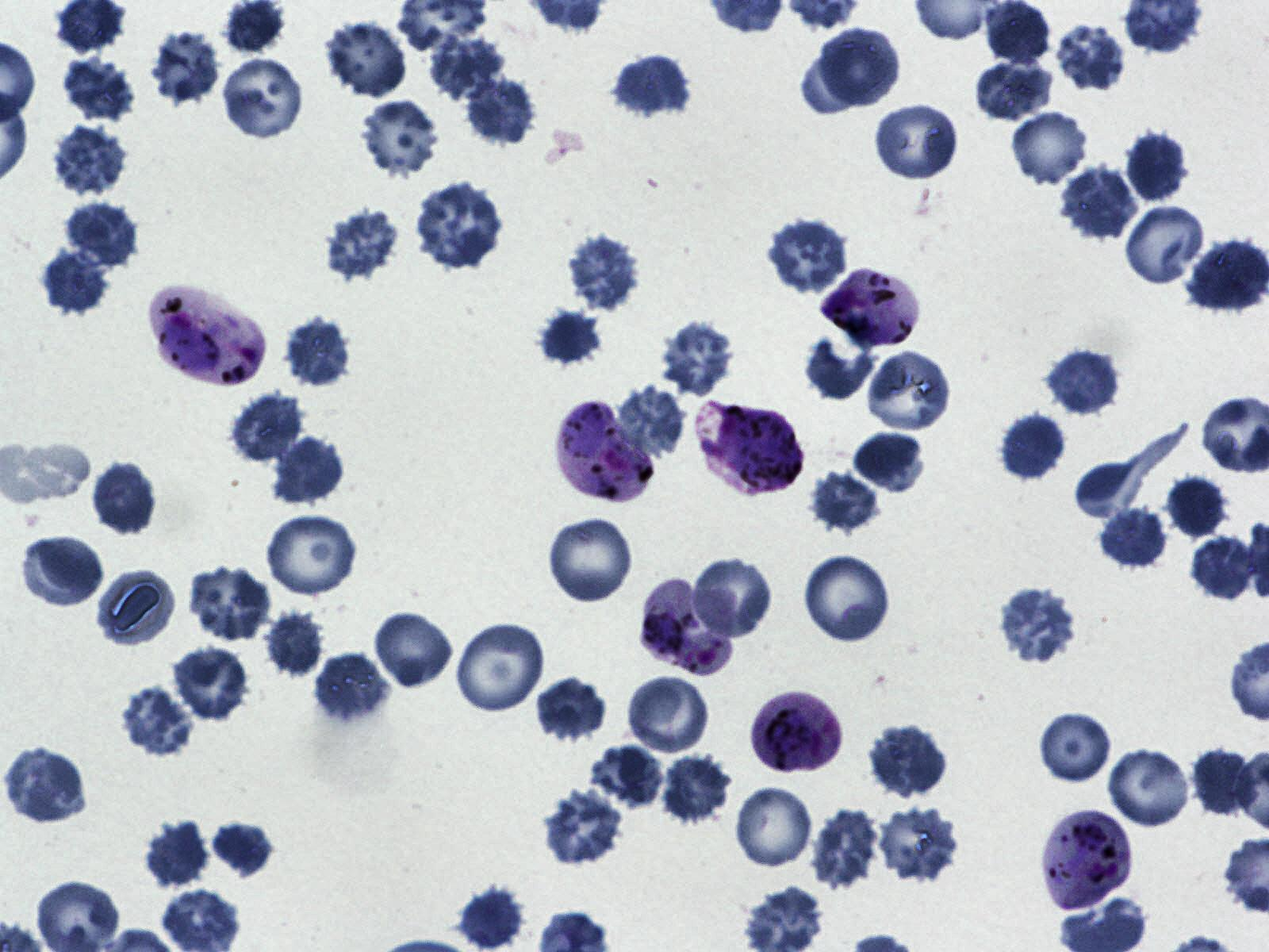Infected: (144, 284, 271, 391), (692, 401, 806, 497), (554, 400, 653, 502), (640, 578, 738, 677), (1041, 811, 1132, 911), (822, 266, 922, 349), (748, 691, 842, 773)
Uninfected: (456, 619, 546, 715), (803, 552, 893, 647), (544, 514, 635, 605), (862, 348, 956, 436), (264, 512, 360, 598), (411, 182, 506, 264), (219, 56, 307, 140), (689, 553, 774, 639), (1106, 747, 1192, 831), (626, 674, 713, 757), (187, 568, 278, 647), (1123, 202, 1207, 286), (734, 784, 815, 870), (371, 610, 454, 692), (1007, 106, 1091, 186), (764, 217, 848, 297), (539, 789, 625, 867), (18, 535, 104, 612), (321, 20, 410, 94), (311, 647, 392, 728), (3, 747, 87, 825), (819, 26, 902, 104), (873, 106, 960, 180), (169, 644, 251, 721), (994, 587, 1077, 663), (799, 43, 889, 113), (657, 319, 735, 399), (48, 121, 129, 198), (808, 806, 882, 890), (874, 808, 958, 882), (1059, 167, 1141, 242), (612, 383, 689, 462), (359, 101, 439, 176), (427, 27, 506, 102), (656, 753, 733, 829), (228, 388, 306, 463), (612, 50, 692, 123), (970, 57, 1055, 125), (868, 726, 947, 798), (63, 199, 139, 273), (56, 54, 138, 122), (268, 432, 343, 506), (534, 671, 607, 747), (1096, 501, 1172, 574), (462, 71, 535, 147), (1040, 711, 1113, 786), (121, 685, 196, 758), (42, 244, 117, 316), (1160, 472, 1235, 544), (1187, 742, 1257, 819), (588, 744, 666, 813), (96, 573, 171, 644), (1122, 130, 1193, 205), (1046, 348, 1123, 417), (324, 209, 397, 280), (1183, 532, 1256, 602), (148, 29, 218, 102), (144, 818, 213, 892), (572, 234, 636, 313), (91, 463, 158, 537), (286, 315, 351, 390), (853, 433, 927, 494), (999, 413, 1066, 480), (263, 609, 324, 681), (812, 467, 880, 531), (1055, 25, 1125, 87), (458, 886, 525, 950), (807, 338, 877, 397), (538, 309, 604, 369), (210, 823, 273, 876)
